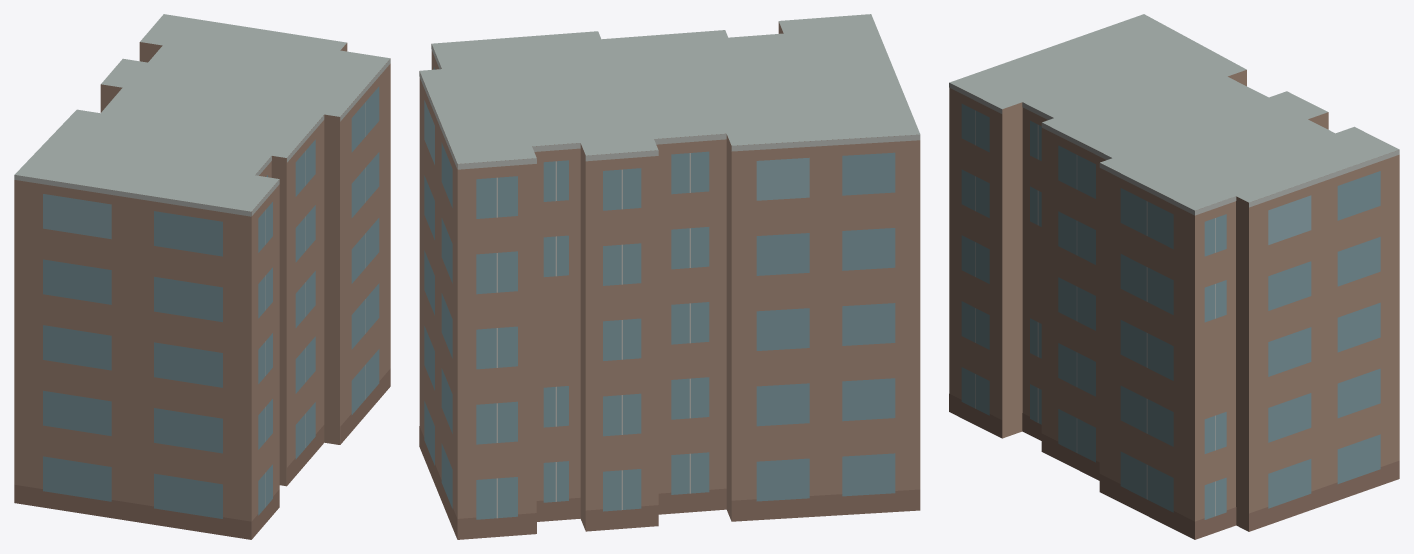
File: survey-upis-32613345.glb
3 views of the same model, side by side, from view 1: azimuth 30°, elevation 25°; view 2: azimuth 150°, elevation 25°; view 3: azimuth 270°, elevation 25° (orthographic). The views are drawn at different scales.
Visible parts, largest first — view 1: survey-upis-32613345.tmp; view 2: survey-upis-32613345.tmp; view 3: survey-upis-32613345.tmp.
Boxes of the visible parts, x1,y1,x2,y2 form: survey-upis-32613345.tmp: [14, 14, 390, 539]; survey-upis-32613345.tmp: [419, 14, 920, 539]; survey-upis-32613345.tmp: [949, 14, 1399, 539].
Size of the model in its own units: 20.49 by 16 by 19.84.
